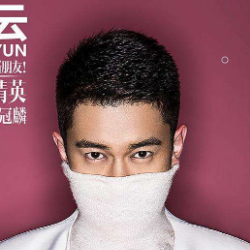mask: (60, 142, 179, 243)
